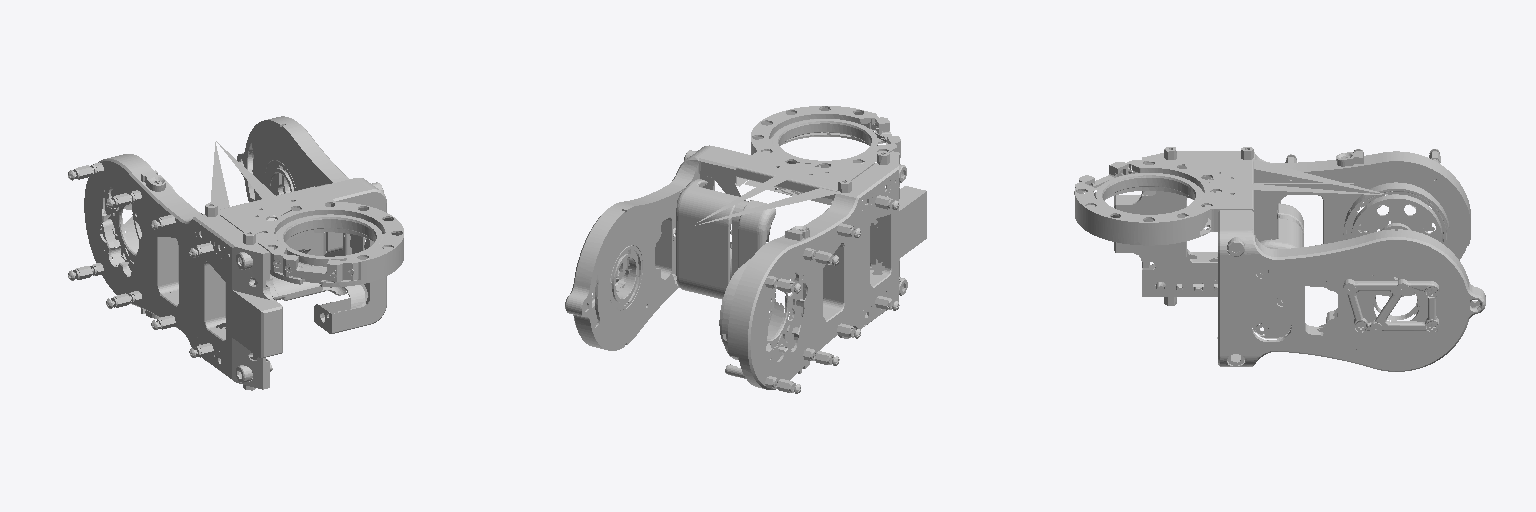
Rendered from sim_ecub_1-1_torso_1.obj.
3 views of the same model, side by side, from view 1: azimuth 30°, elevation 25°; view 2: azimuth 150°, elevation 25°; view 3: azimuth 270°, elevation 25° (orthographic).
Bounding box in the file's own units: 121 × 81.41 × 196.